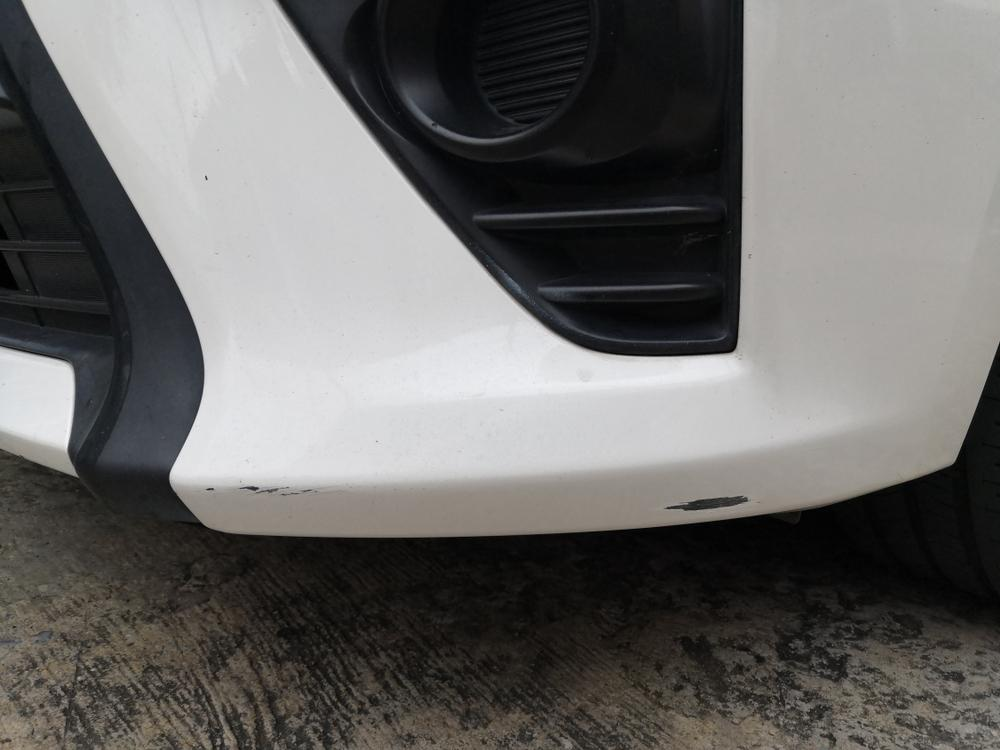scratch: (205, 480, 343, 498), (660, 493, 756, 513)
